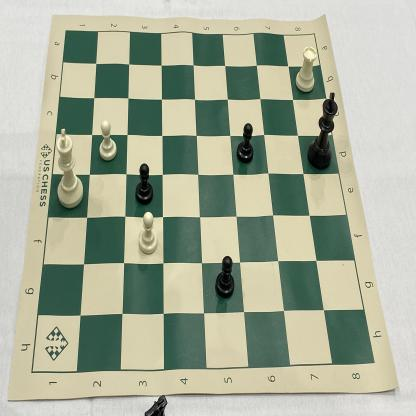black-king: (306, 88, 340, 171)
black-pawn: (213, 249, 238, 301), (133, 157, 156, 207), (235, 118, 256, 166)
white-king: (52, 125, 86, 212)
white-pawn: (135, 210, 161, 258), (96, 117, 119, 163)
white-rook: (294, 42, 320, 96)
